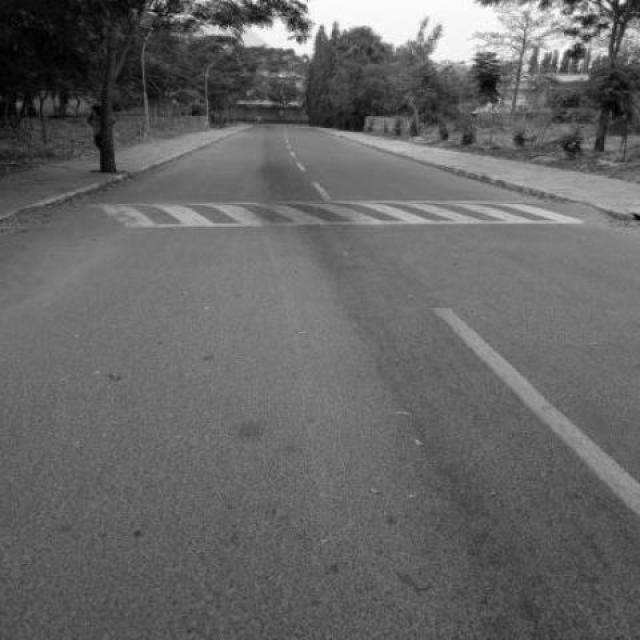Speed Bump: (20, 198, 607, 226)
